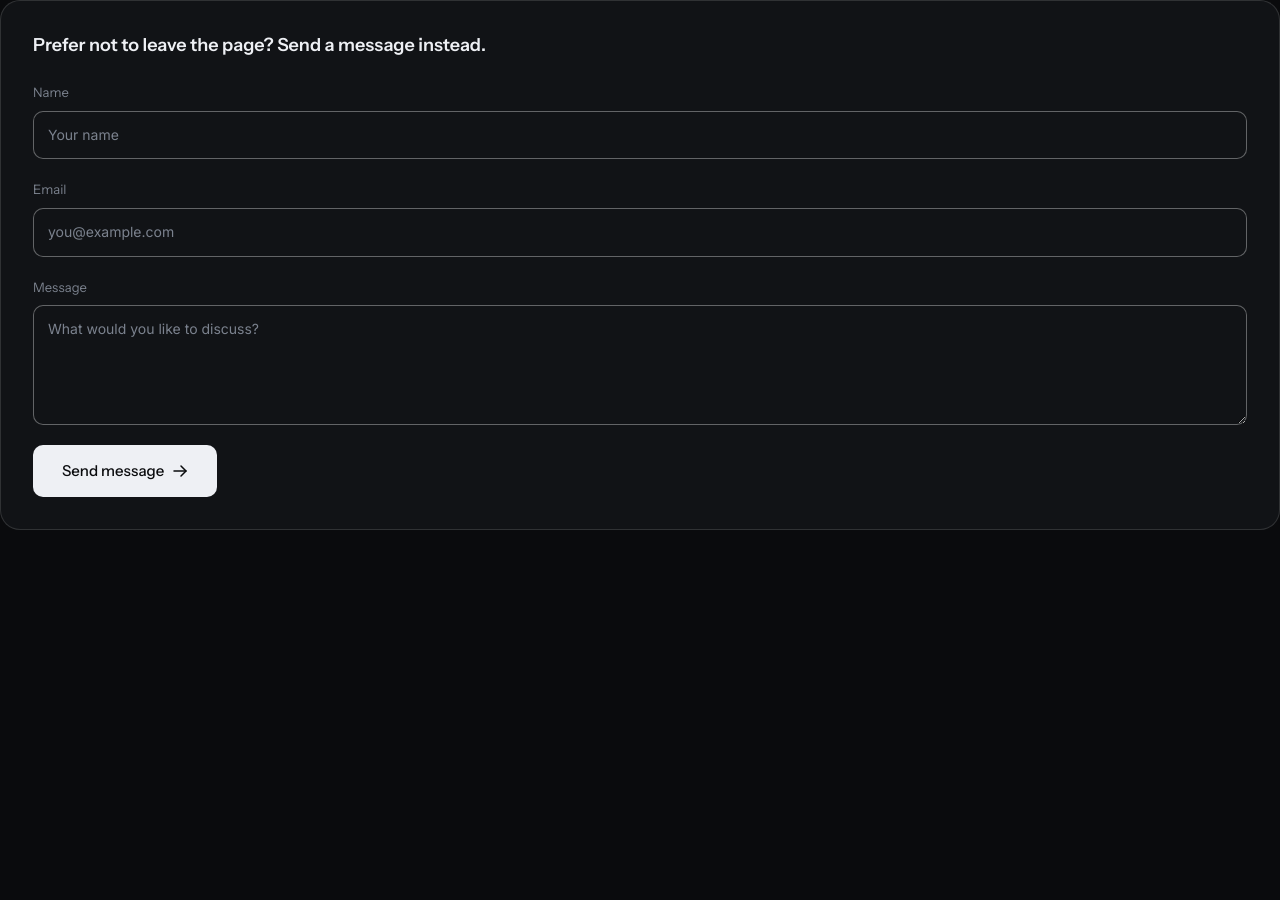
Test: ContactForm › shows an error, keeps the message and focus, and offers a retry when Netlify rejects it
Type "Ana Torres" into the field labelled "Name".
click(640, 135); type("Ana Torres")  # box [33,111,1247,159]
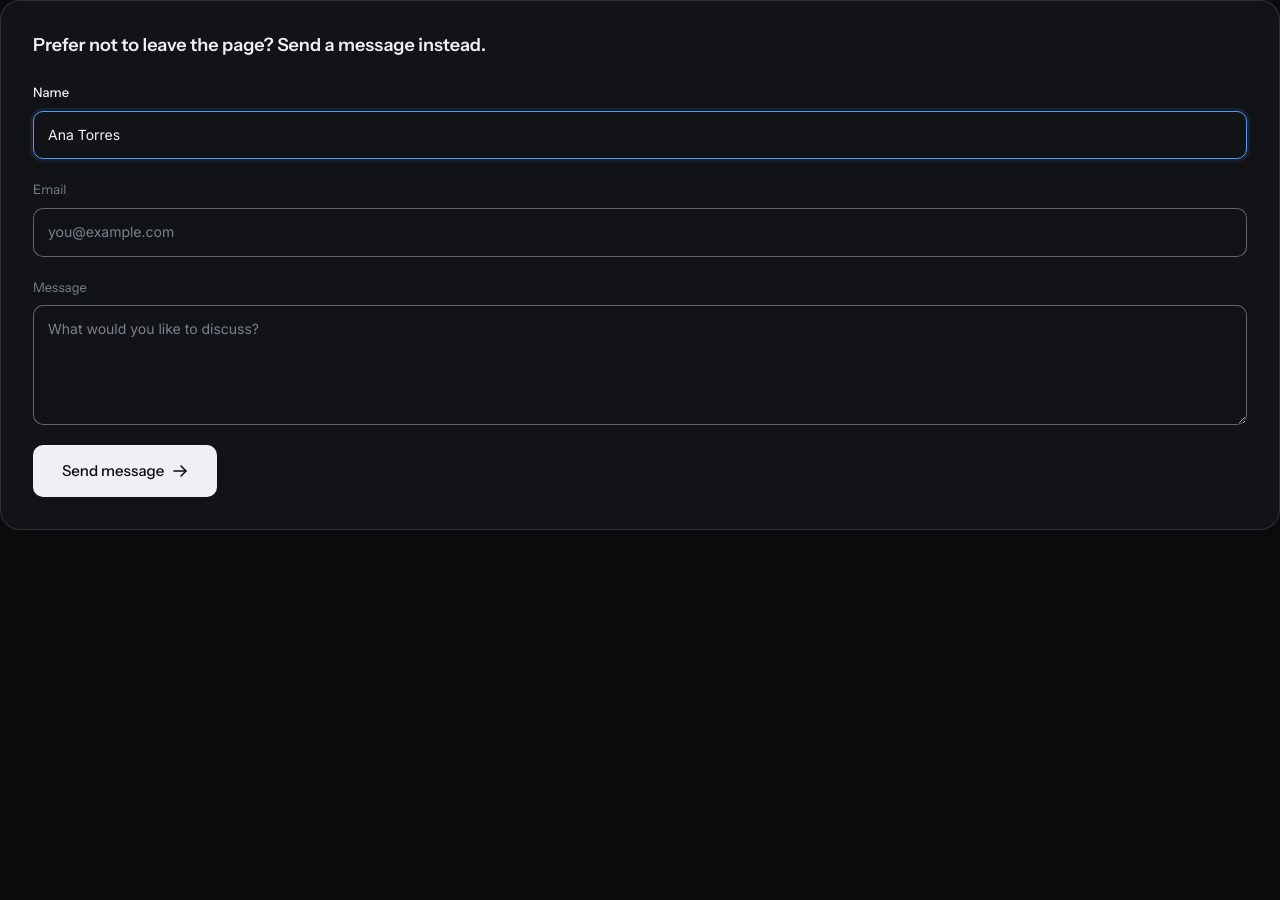
Type "ana@studio.co" into the field labelled "Email".
click(640, 232); type("ana@studio.co")  # box [33,208,1247,257]
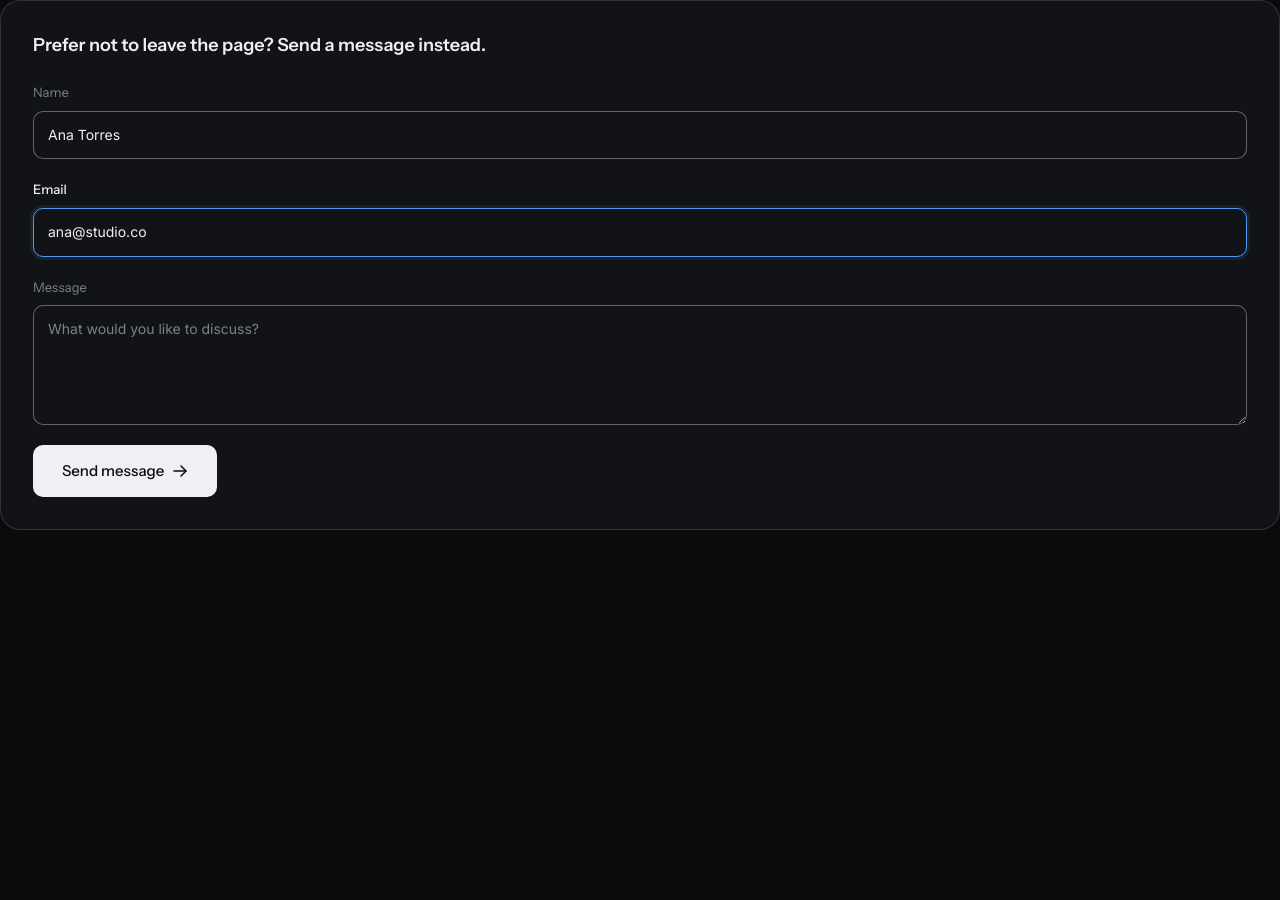
Type "Hi Juan" into the text box labelled "Message".
click(640, 365); type("Hi Juan")  # box [33,305,1247,425]
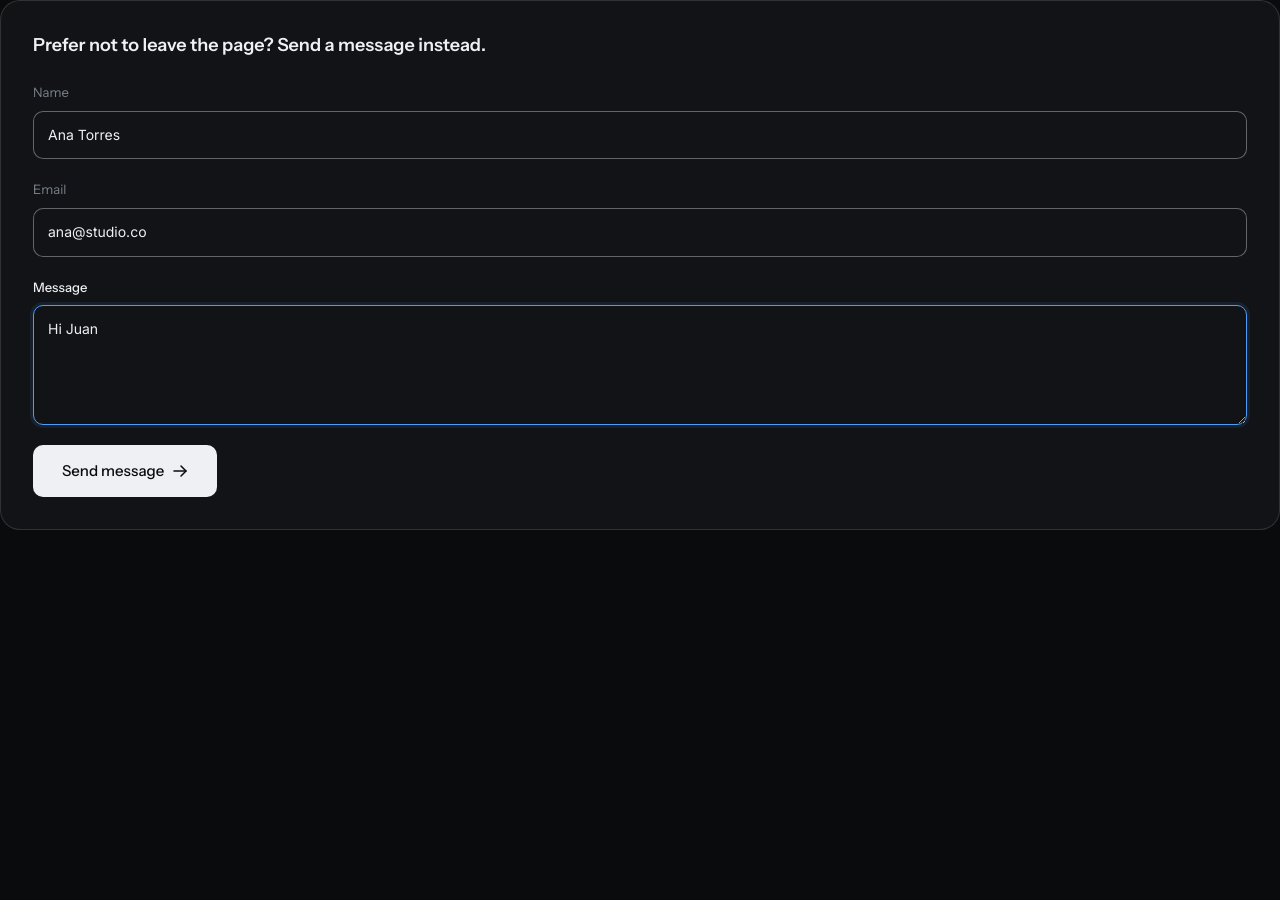
Click the button "Send message".
click(125, 471)  # box [33,445,217,497]
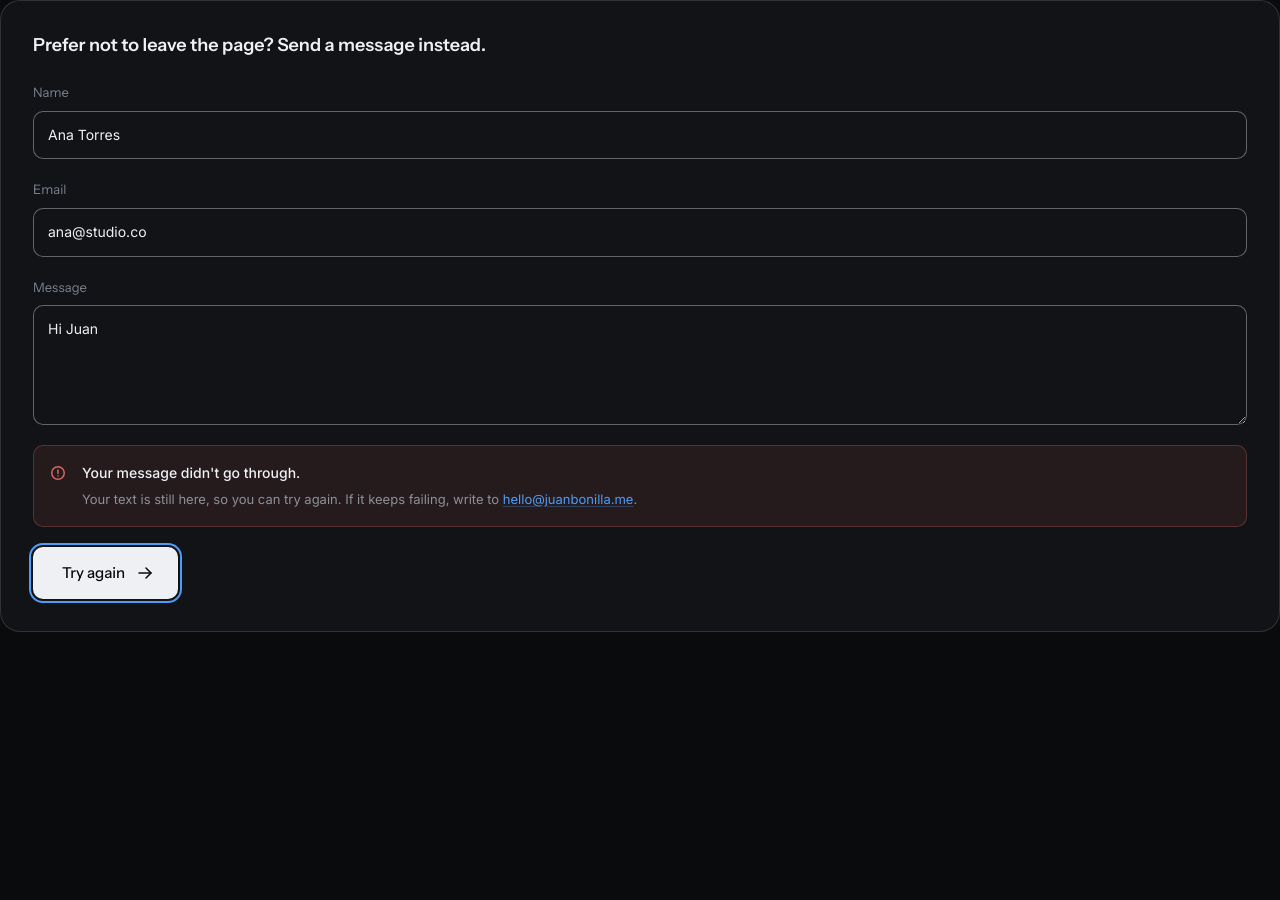
Check: the message shows "Your message didn't go through.", box [82,464,300,481]
